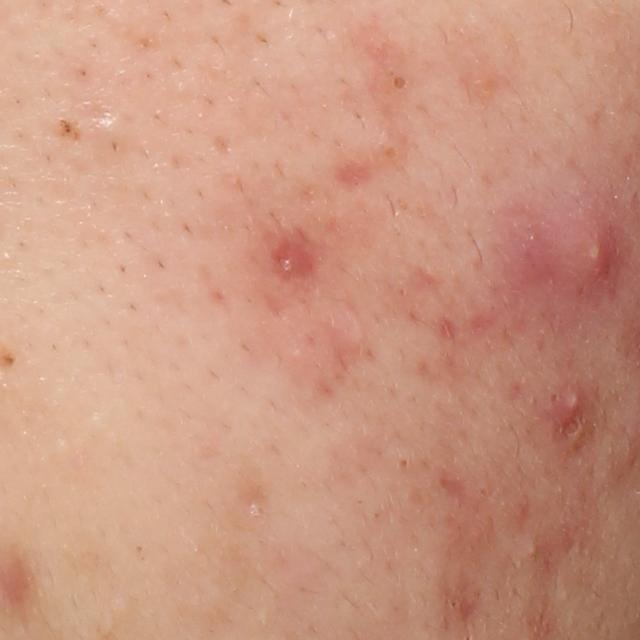atrophic_scar: (440, 475, 472, 507)
comedo: (82, 114, 133, 156), (388, 72, 413, 97), (378, 140, 400, 164), (396, 455, 412, 473), (524, 541, 539, 559)
pustule: (546, 379, 593, 427)
